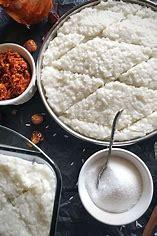Kiribath: (40, 5, 156, 143)
Lunu sambol: (0, 41, 28, 109)
